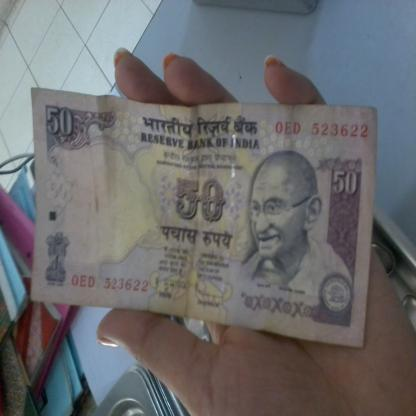Old50Front: (31, 87, 377, 351)
